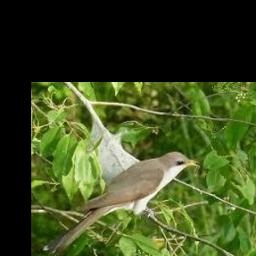Cuckoo: (48, 151, 202, 256)
